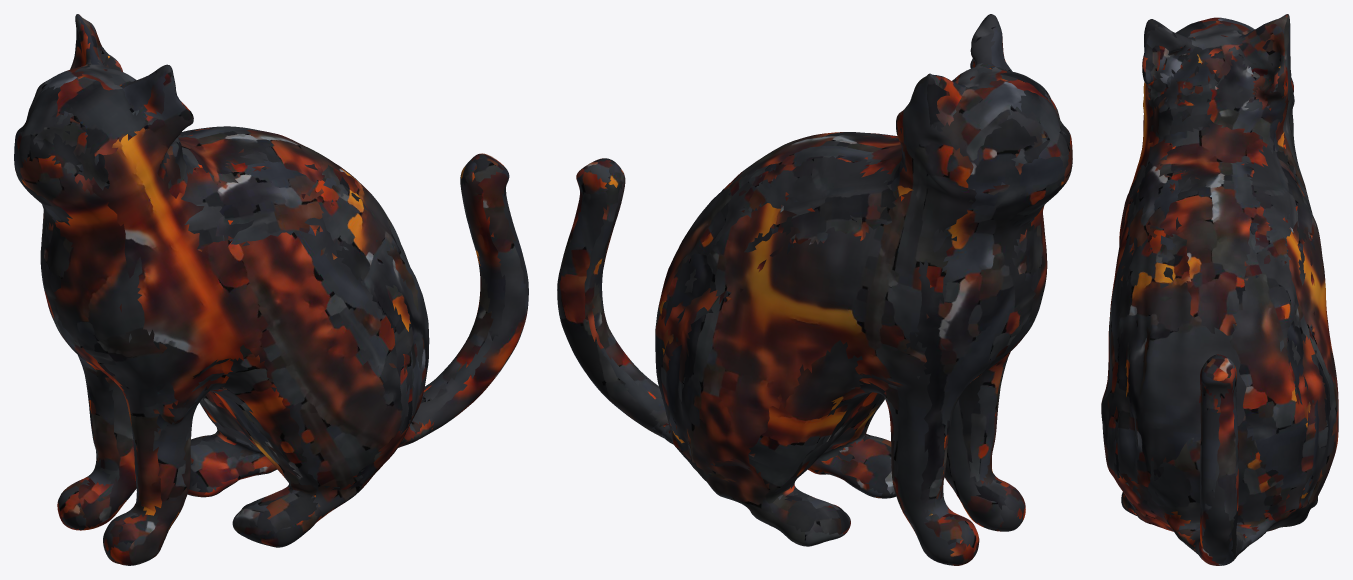
The model's file is bebe2.gltf.
3 views of the same model, side by side, from view 1: azimuth 30°, elevation 25°; view 2: azimuth 150°, elevation 25°; view 3: azimuth 270°, elevation 25° (orthographic). The views are drawn at different scales.
Visible parts, largest first — view 1: geometry_0; view 2: geometry_0; view 3: geometry_0.
Part boxes in pixels (box(x1,y1,x2,y2)): geometry_0: box(14, 14, 528, 565); geometry_0: box(557, 14, 1072, 565); geometry_0: box(1101, 14, 1338, 565).
Bounding box in the file's own units: 0.5171 × 0.4866 × 0.2345.
Materials: 1 (1 with a texture image).
